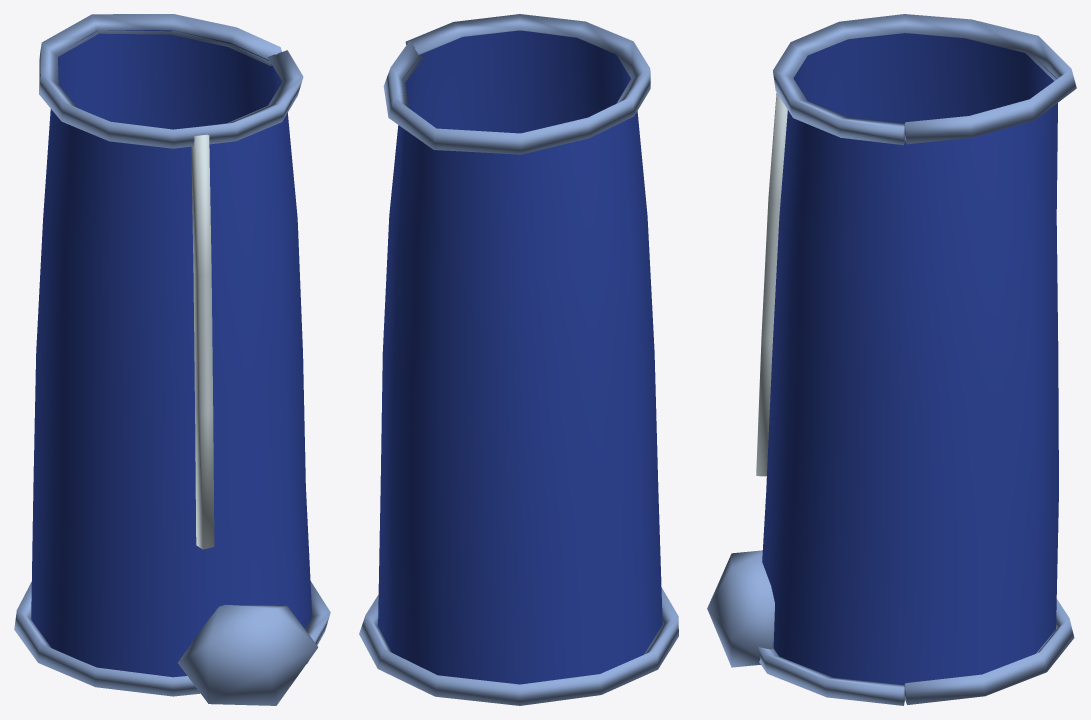
Rendered from stardust_armor_greave.L.glb.
3 renders of one model, left to right at view 1: azimuth 30°, elevation 25°; view 2: azimuth 150°, elevation 25°; view 3: azimuth 270°, elevation 25°, orthographic. The views are drawn at different scales.
Visible parts, largest first — view 1: stardust_armor_greave.L; view 2: stardust_armor_greave.L; view 3: stardust_armor_greave.L.
Part boxes in pixels (x1=…): stardust_armor_greave.L: x1=14, y1=14, x2=330, y2=705; stardust_armor_greave.L: x1=359, y1=14, x2=678, y2=705; stardust_armor_greave.L: x1=707, y1=14, x2=1076, y2=705.
Bounding box in the file's own units: 0.1996 × 0.4044 × 0.2298.
